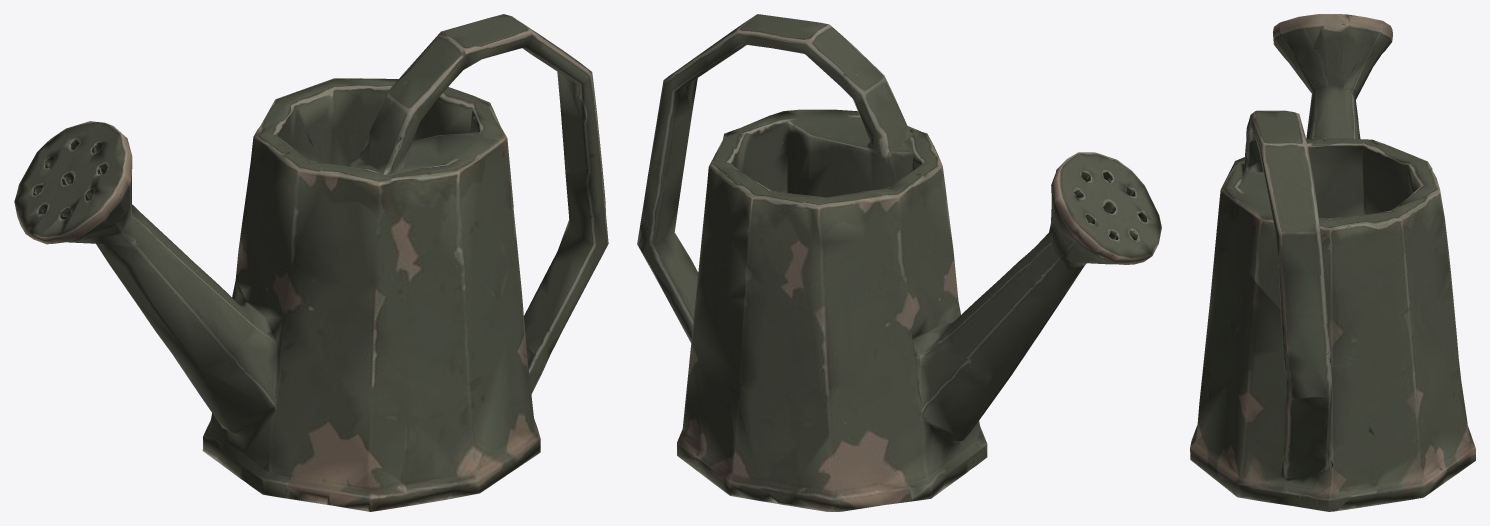
Rendered from can.glb.
3 renders of one model, left to right at view 1: azimuth 30°, elevation 25°; view 2: azimuth 150°, elevation 25°; view 3: azimuth 270°, elevation 25°, orthographic. The views are drawn at different scales.
Bounding box in the file's own units: 1.9 × 1.34 × 0.9684.
Materials: 1 (1 with a texture image).
